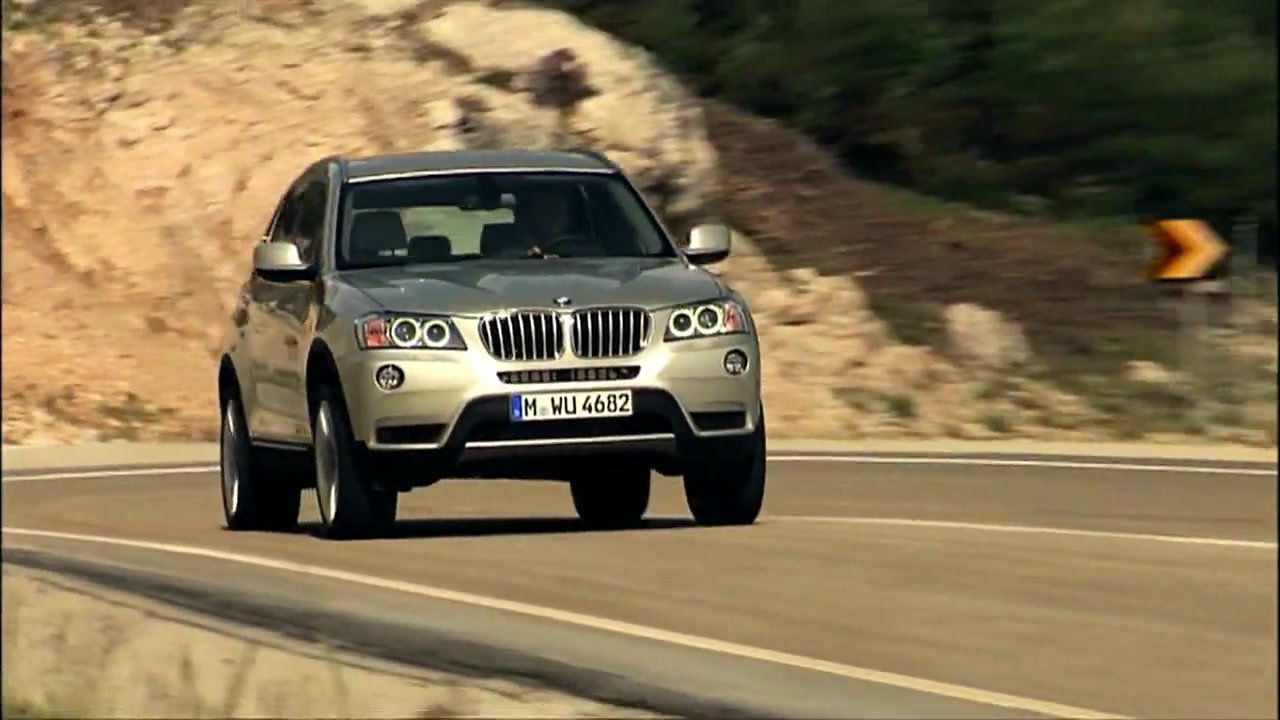car: (212, 142, 769, 541)
